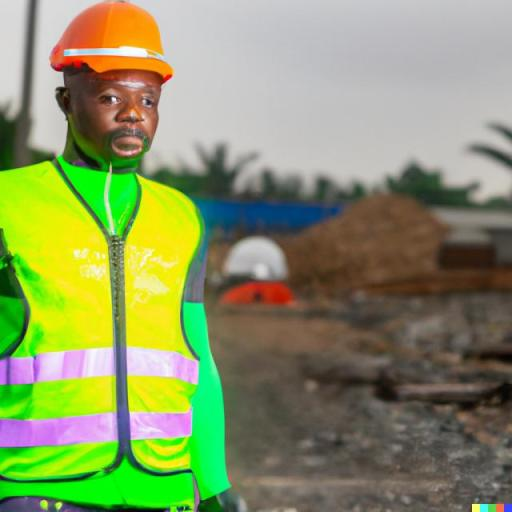helmet: (47, 0, 176, 82)
vest: (3, 149, 207, 505)
